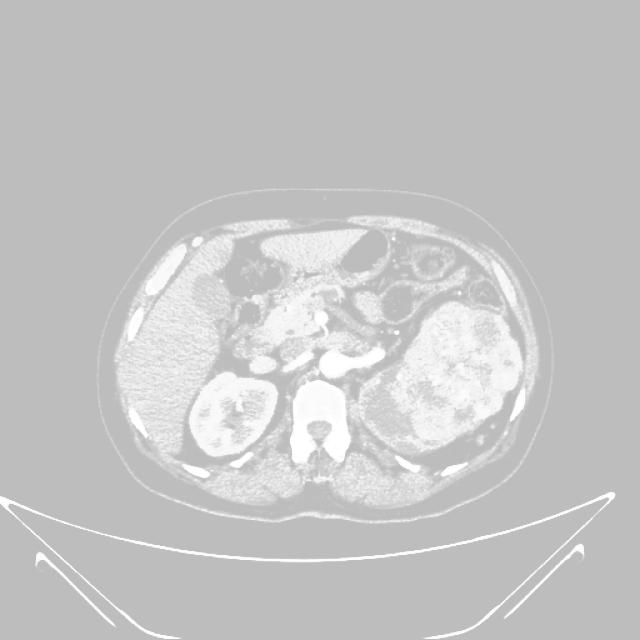TUMOR: (159, 300, 478, 459)
